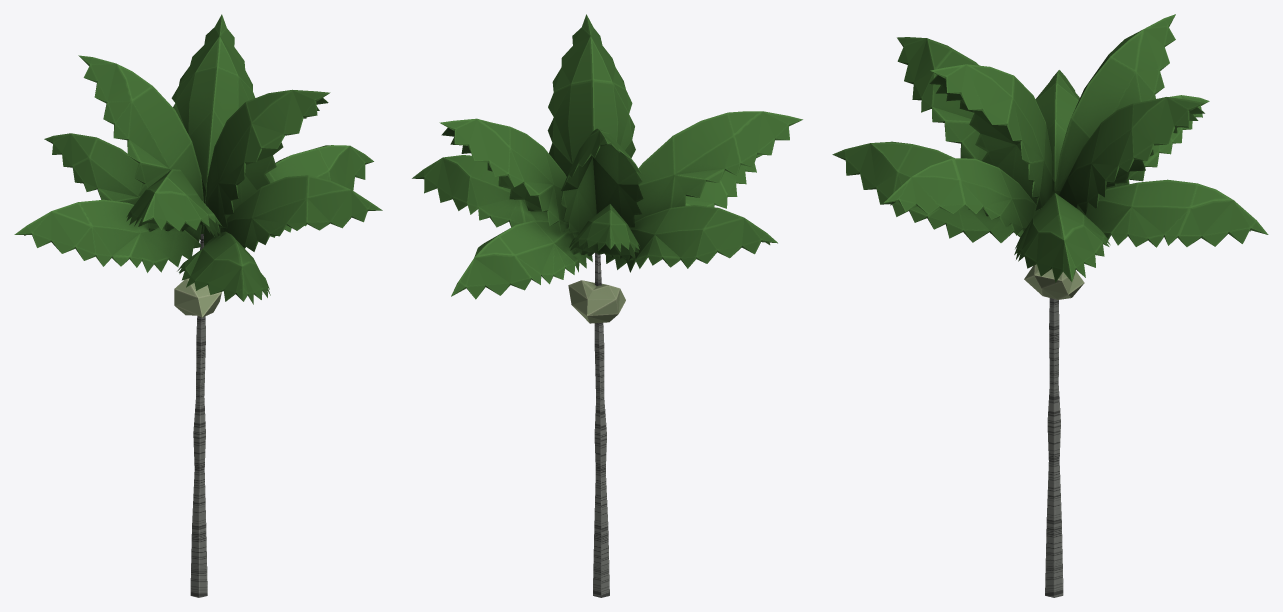
The model's file is WininPalmTree.gltf.
3 renders of one model, left to right at view 1: azimuth 30°, elevation 25°; view 2: azimuth 150°, elevation 25°; view 3: azimuth 270°, elevation 25°, orthographic. The views are drawn at different scales.
Parts seen in each view (by area): view 1: node-0; view 2: node-0; view 3: node-0.
Boxes of the visible parts, x1,y1,x2,y2 form: node-0: (14,14,382,597); node-0: (412,14,802,597); node-0: (832,14,1268,597).
Bounding box in the file's own units: 9.55 × 13.12 × 9.25.
1 material, 1 textured.
